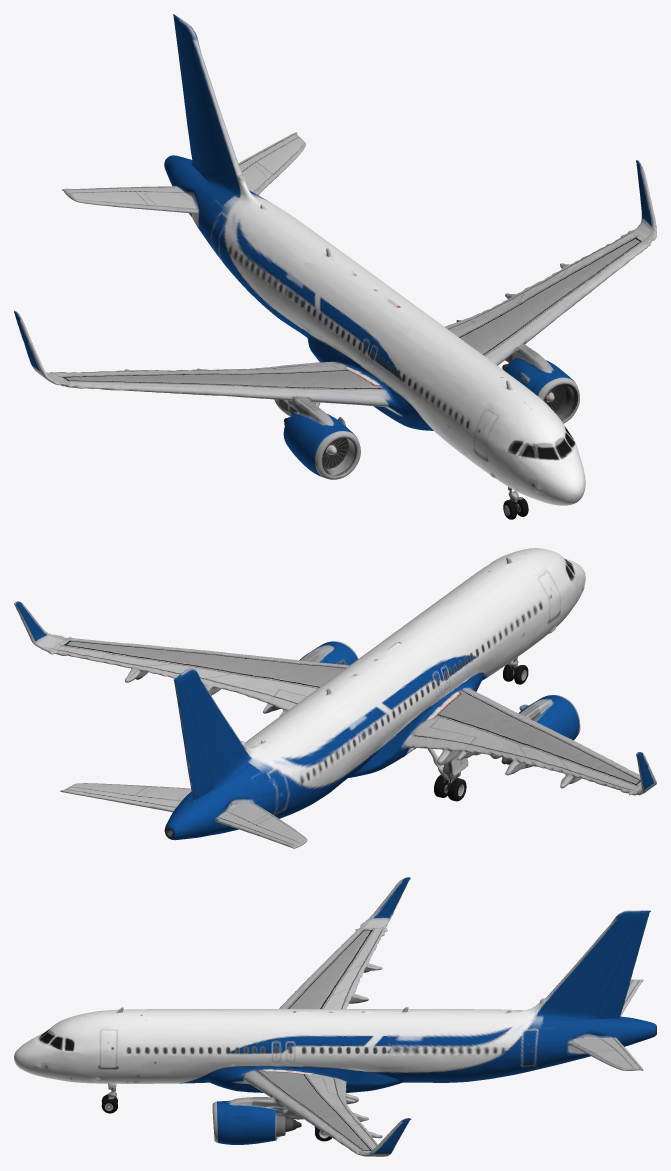
Rendered from a320n-aerolink.glb.
3 renders of one model, top to bottom at view 1: azimuth 30°, elevation 25°; view 2: azimuth 150°, elevation 25°; view 3: azimuth 270°, elevation 25°, orthographic. The views are drawn at different scales.
Visible parts, largest first — view 1: a320n-aerolink; view 2: a320n-aerolink; view 3: a320n-aerolink.
Part boxes in pixels (<box>): a320n-aerolink: <box>14,14,656,519</box>; a320n-aerolink: <box>14,548,656,848</box>; a320n-aerolink: <box>14,877,656,1156</box>.
Bounding box in the file's own units: 33.66 × 13.05 × 38.
1 material, 1 textured.
